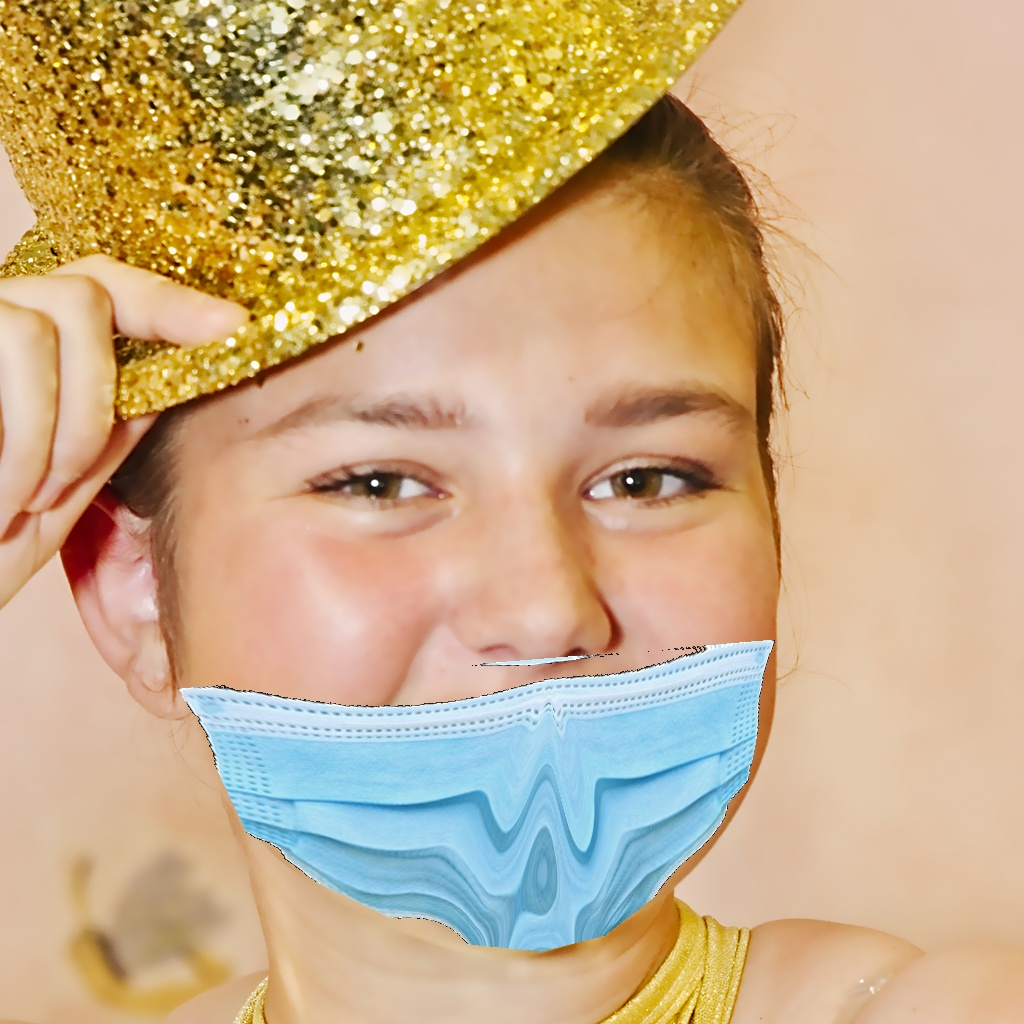mask_weared_incorrect: (219, 385, 775, 955)
